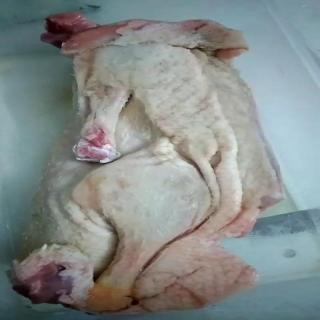Ayam: (5, 12, 287, 316)
